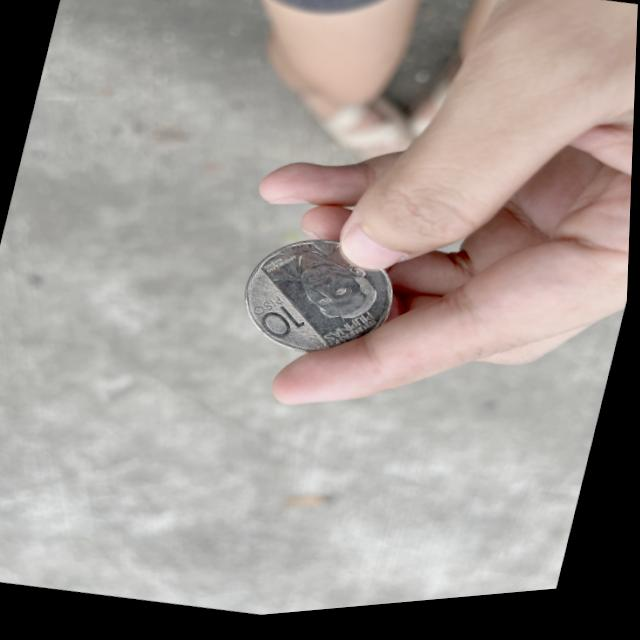10_New_Front: (243, 288, 314, 356)
